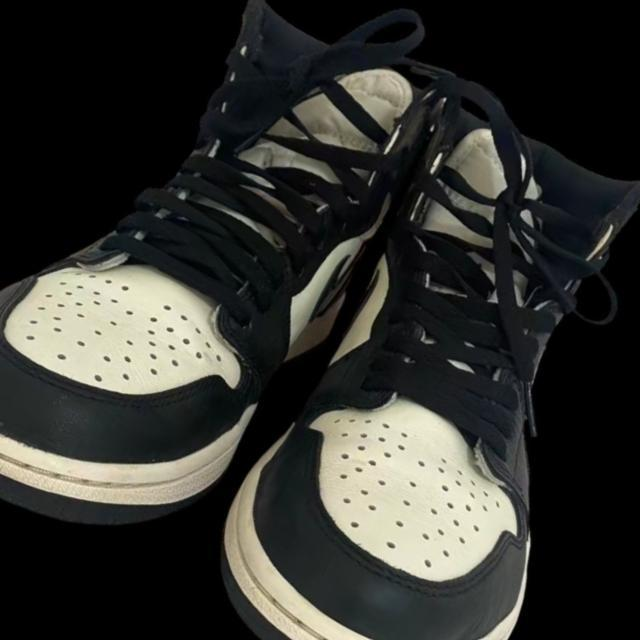nike original jordan 1: (0, 0, 492, 615), (140, 55, 640, 640)
